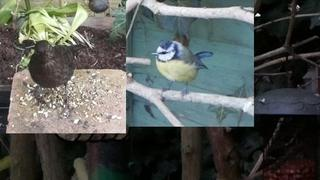blackbird: (27, 40, 86, 114)
blue tit: (151, 40, 214, 100)
